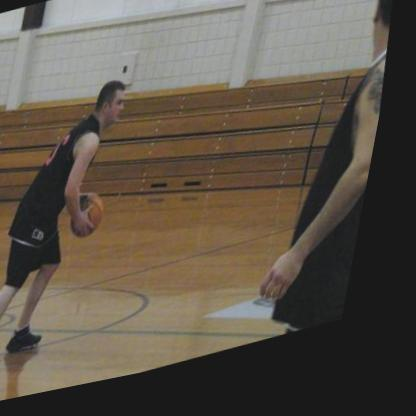basketball: (76, 201, 116, 245)
